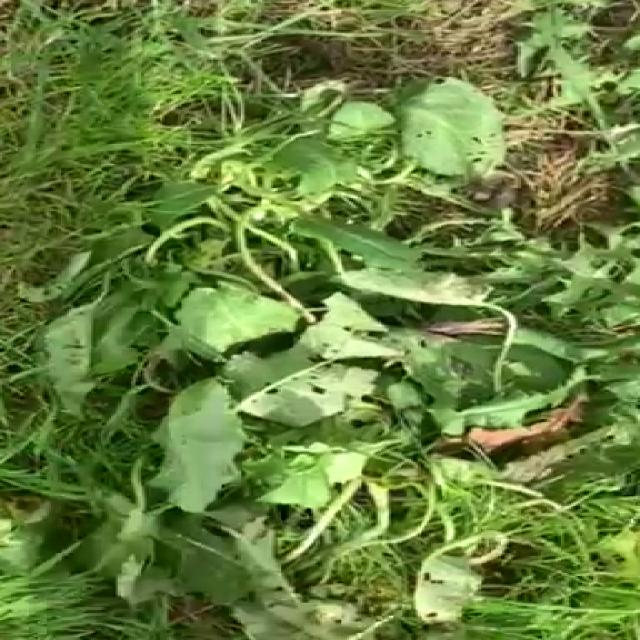organic waste: (0, 288, 640, 627), (89, 67, 593, 398)
